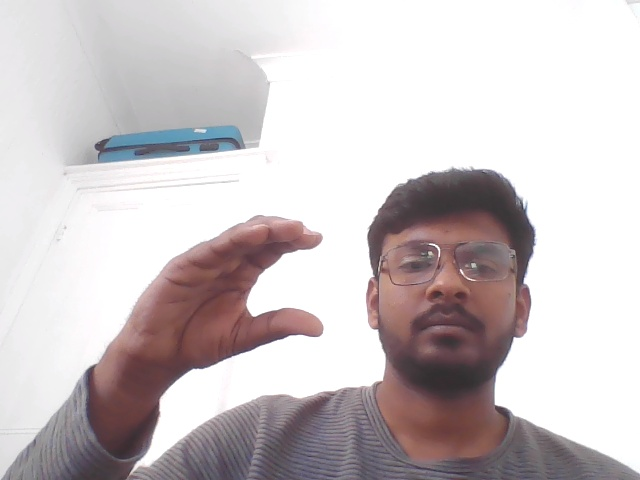No: (81, 185, 347, 430)
